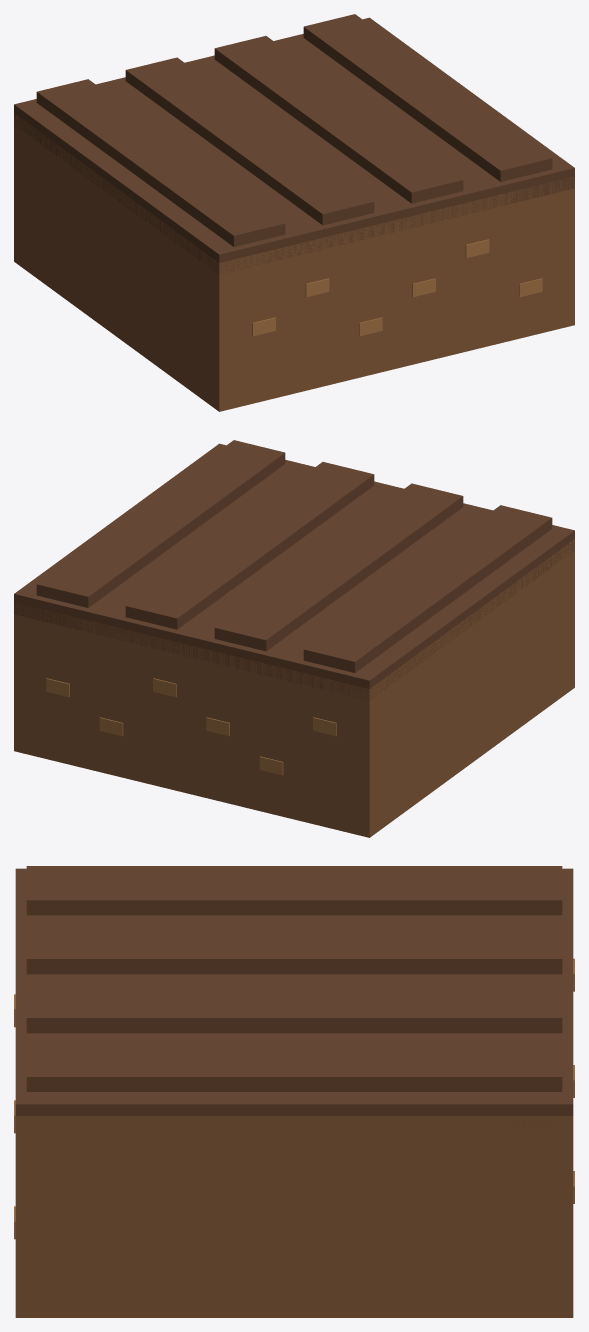
Rendered from farmland_dry.glb.
3 views of the same model, one above another, from view 1: azimuth 30°, elevation 25°; view 2: azimuth 150°, elevation 25°; view 3: azimuth 270°, elevation 25° (orthographic). The views are drawn at different scales.
Visible parts, largest first — view 1: farmland_dry_Mesh; view 2: farmland_dry_Mesh; view 3: farmland_dry_Mesh.
Boxes of the visible parts, x1=… form: farmland_dry_Mesh: x1=14, y1=14, x2=574, y2=411; farmland_dry_Mesh: x1=14, y1=440, x2=574, y2=837; farmland_dry_Mesh: x1=14, y1=866, x2=574, y2=1317.
Size of the model in its own units: 1 by 0.4525 by 1.01.
